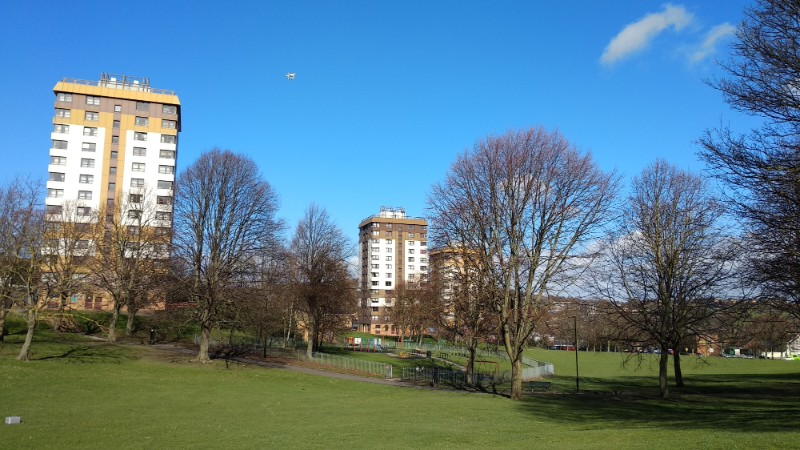drone: (284, 71, 297, 81)
